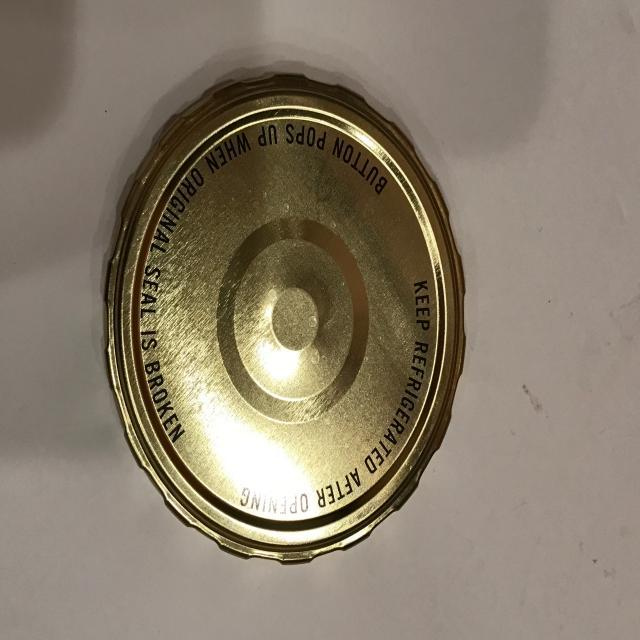metal: (101, 69, 469, 564)
